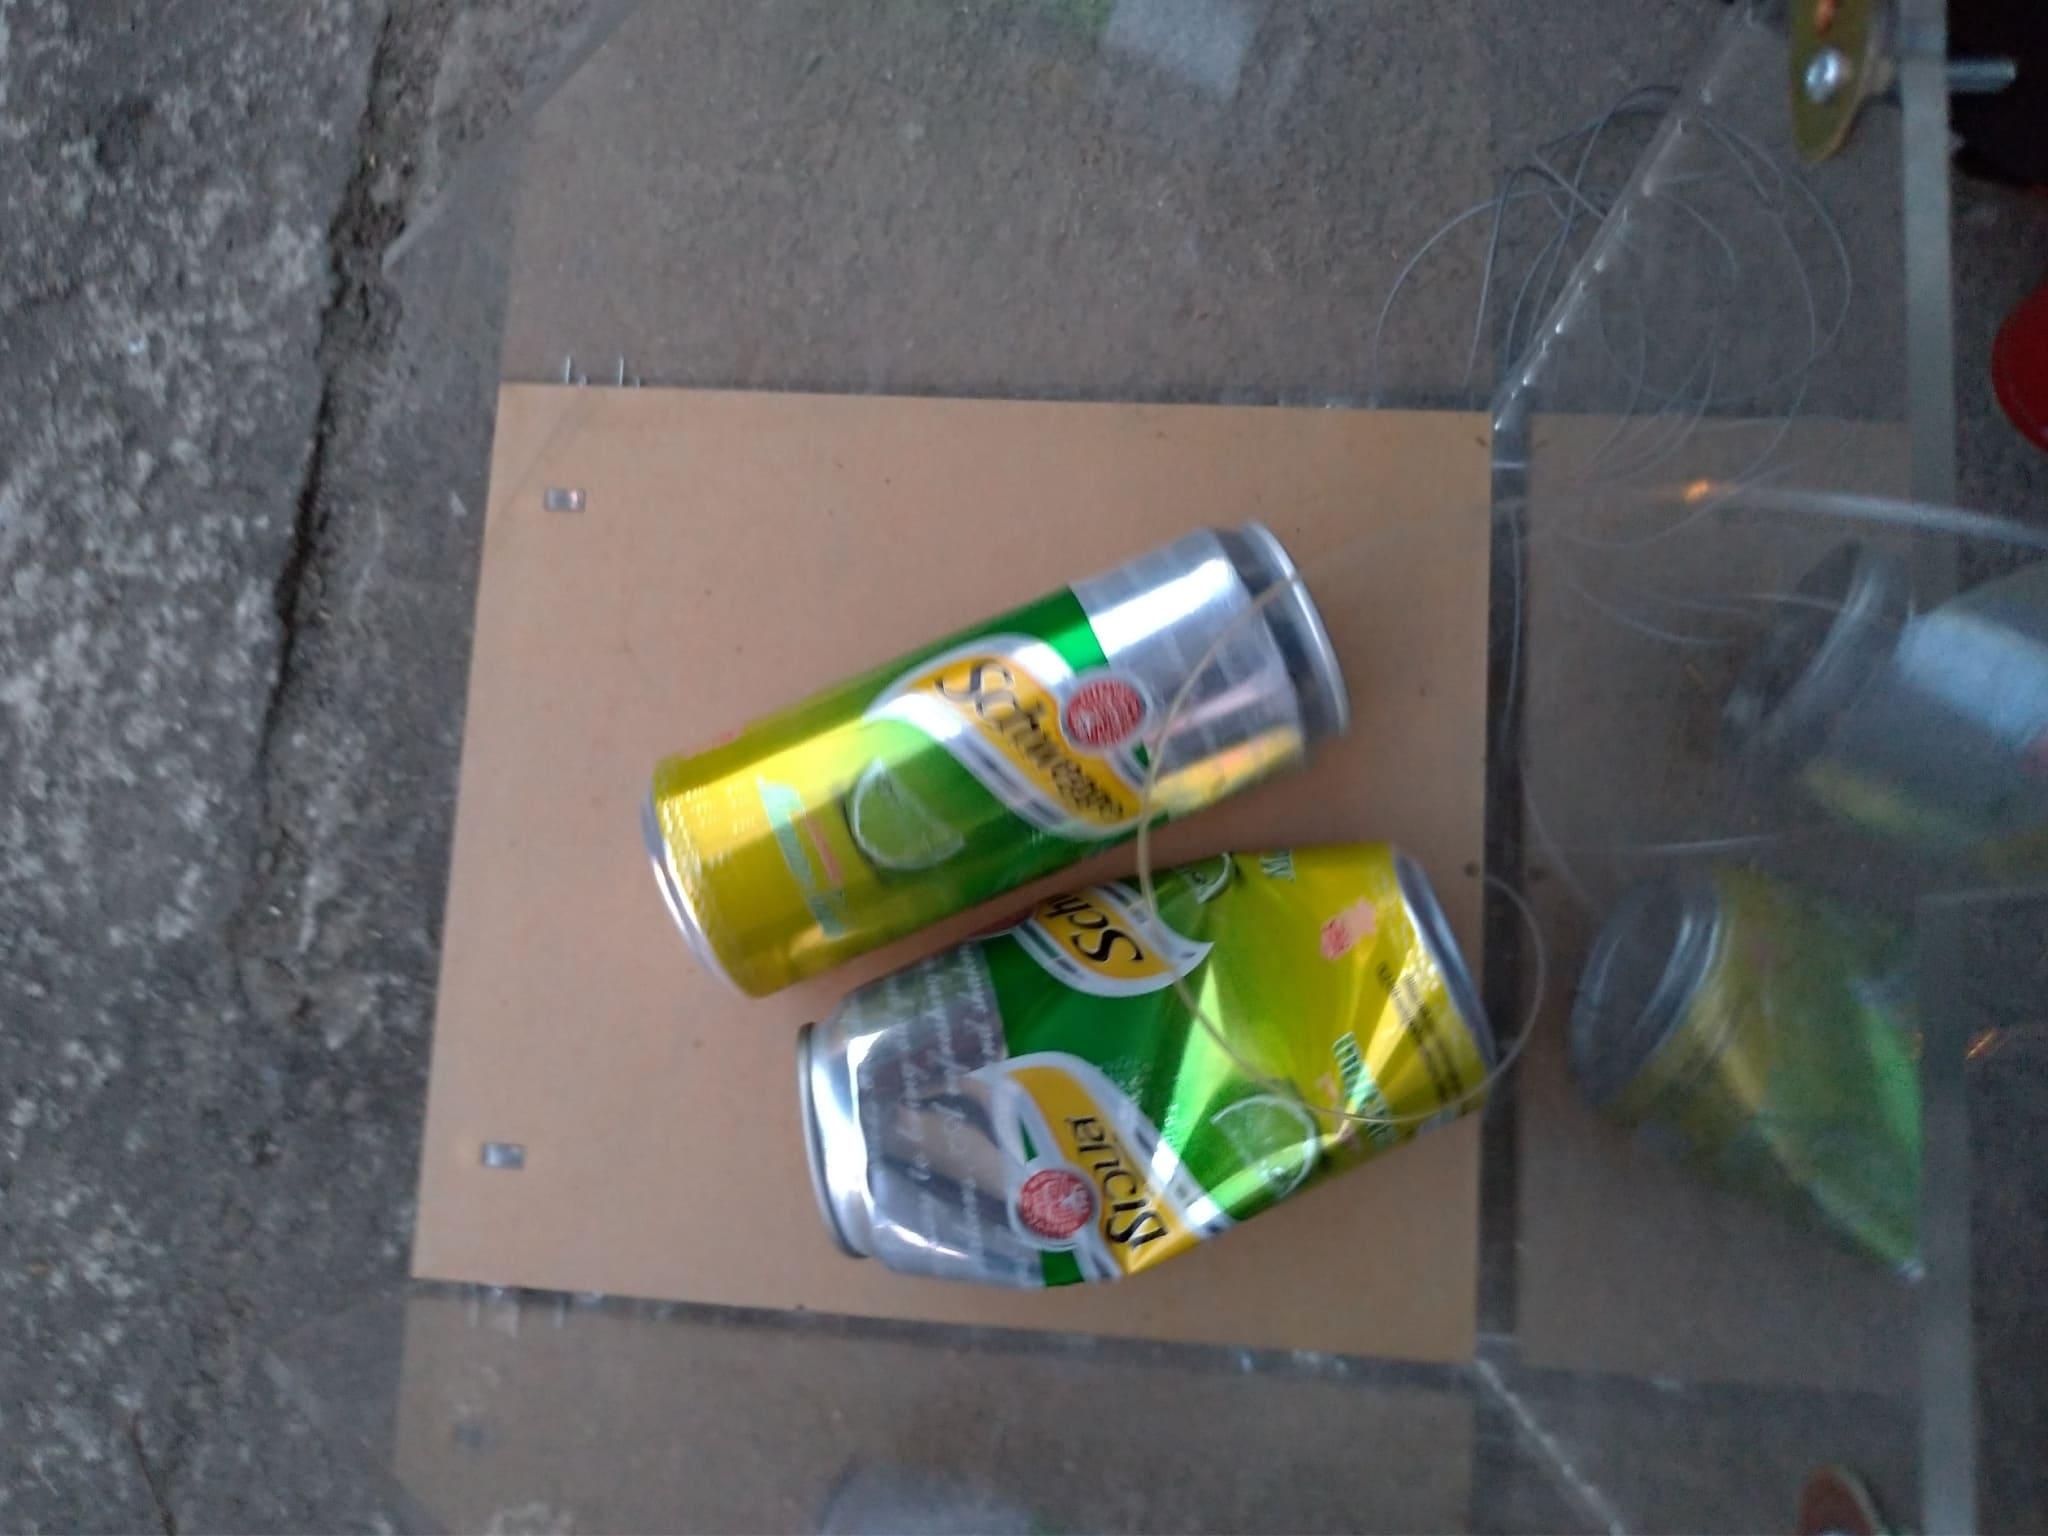AlCan: (647, 516, 1348, 1000), (792, 845, 1503, 1300)
